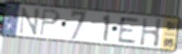1: (101, 14, 112, 43)
7: (69, 9, 88, 42)
E: (117, 16, 140, 44)
H: (138, 17, 163, 49)
N: (17, 6, 41, 37)
P: (39, 8, 61, 38)
